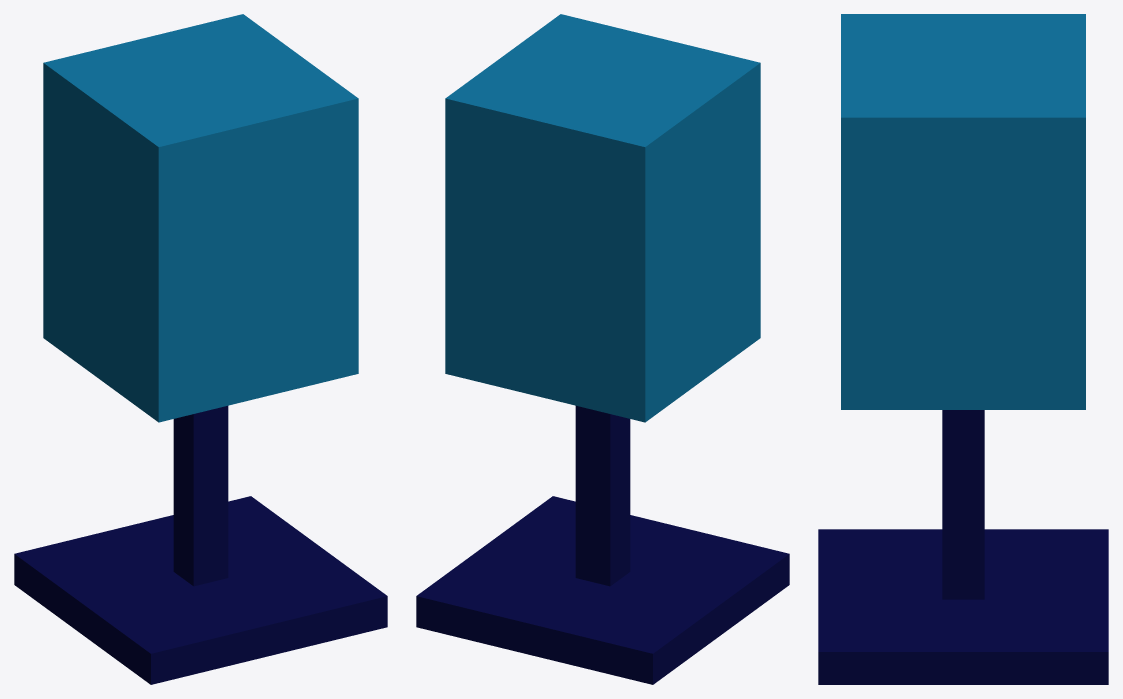
The model's file is engel.fbx.
The picture shows the model from 3 angles, left to right: view 1: azimuth 30°, elevation 25°; view 2: azimuth 150°, elevation 25°; view 3: azimuth 270°, elevation 25°; orthographic projection. The views are drawn at different scales.
Parts seen in each view (by area): view 1: Cube; view 2: Cube; view 3: Cube.
Boxes of the visible parts, <box> form: Cube: <box>14,14,387,684</box>; Cube: <box>416,14,789,684</box>; Cube: <box>818,14,1108,684</box>.
Bounding box in the file's own units: 70.26 × 149 × 70.26.
